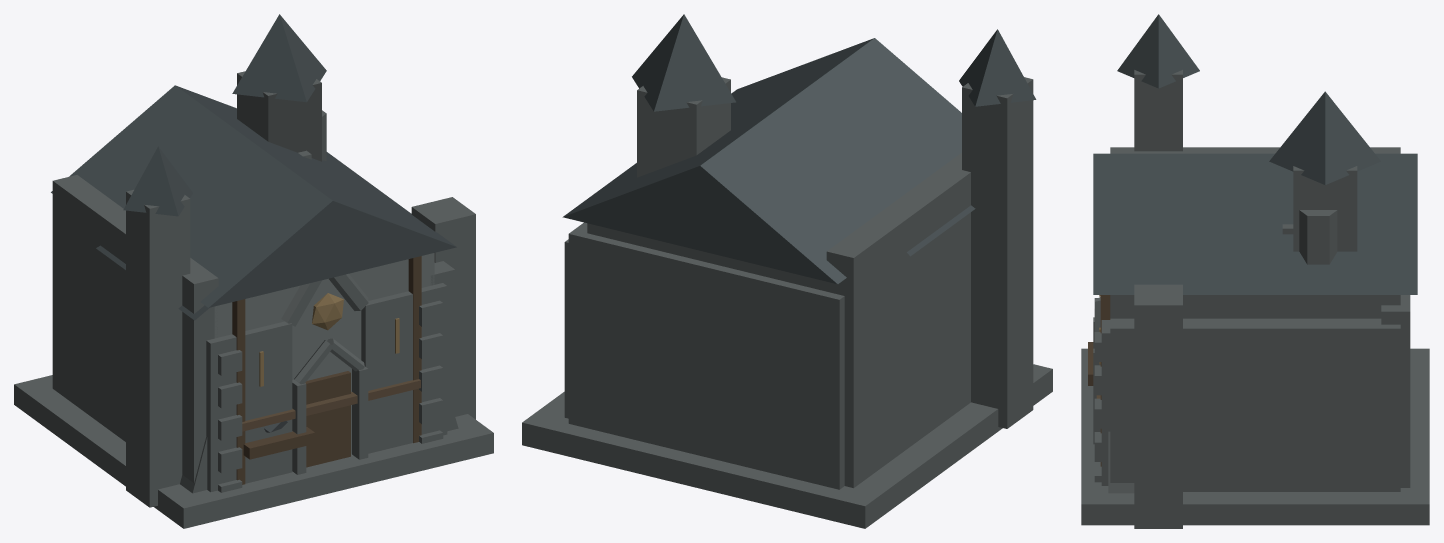
File: props_library.glb
3 renders of one model, left to right at view 1: azimuth 30°, elevation 25°; view 2: azimuth 150°, elevation 25°; view 3: azimuth 270°, elevation 25°, orthographic. The views are drawn at different scales.
Visible parts, largest first — view 1: PROP_019_RuinedChapel, PROP_001_SanctuaryChapel, PROP_018_VillageWorkshop; view 2: PROP_019_RuinedChapel, PROP_001_SanctuaryChapel; view 3: PROP_019_RuinedChapel, PROP_001_SanctuaryChapel, PROP_018_VillageWorkshop.
Part boxes in pixels (x1=…): PROP_019_RuinedChapel: x1=14, y1=146, x2=493, y2=528; PROP_001_SanctuaryChapel: x1=51, y1=14, x2=458, y2=493; PROP_018_VillageWorkshop: x1=243, y1=110, x2=326, y2=459; PROP_019_RuinedChapel: x1=522, y1=29, x2=1052, y2=528; PROP_001_SanctuaryChapel: x1=562, y1=14, x2=961, y2=292; PROP_019_RuinedChapel: x1=1081, y1=14, x2=1429, y2=528; PROP_001_SanctuaryChapel: x1=1093, y1=91, x2=1417, y2=493; PROP_018_VillageWorkshop: x1=1088, y1=210, x2=1337, y2=385.
Size of the model in its own units: 4.18 by 4.49 by 3.6.
